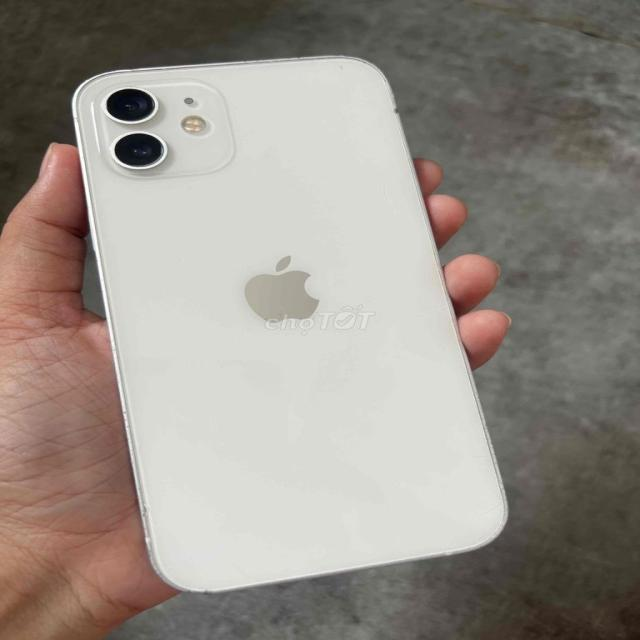gen_12_13: (68, 48, 515, 597)
